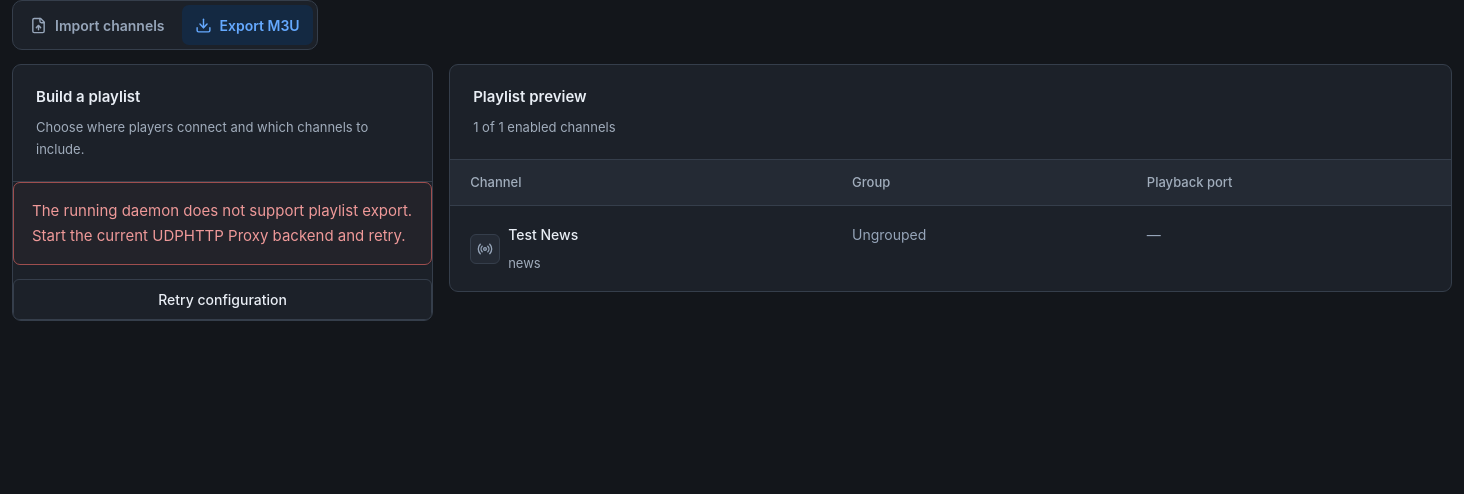
Scenario: explains a legacy backend and lets configuration be retried
The width and height of the screenshot is (1464, 494).
Expected: the text "running daemon does not support playlist export" is shown, [32,201,412,245]
What coordinates should you click on to do the following:
click the button "Retry configuration"
I would click on:
 (223, 299)
Its box is [13,279,432,320].
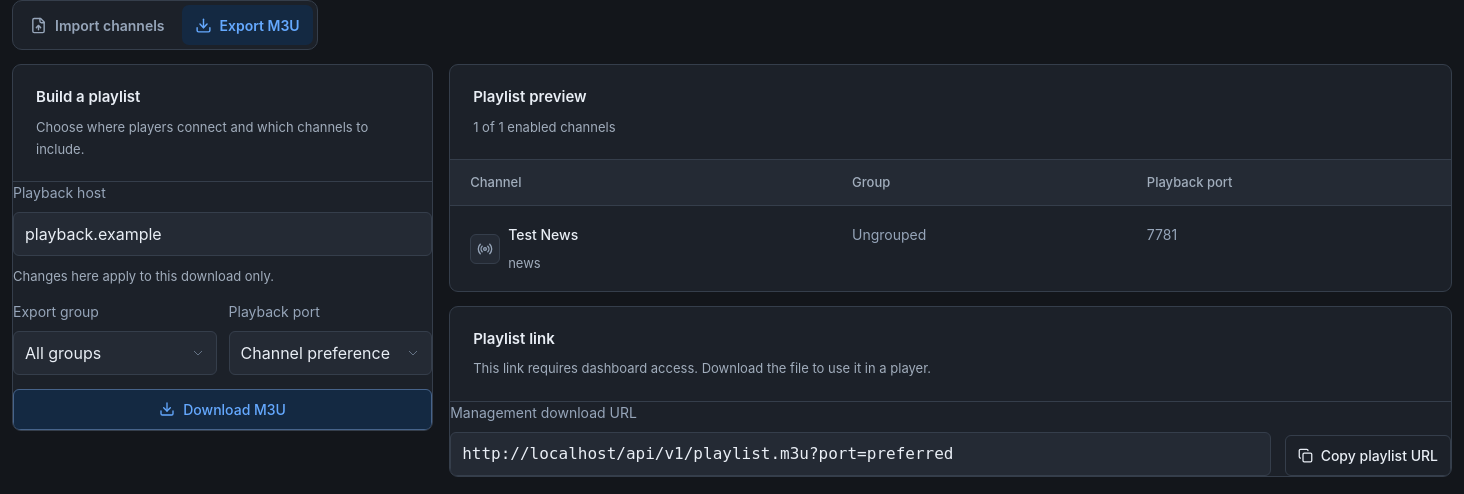
Result: the field showing "playback.example" is shown at [13,212,432,256]
